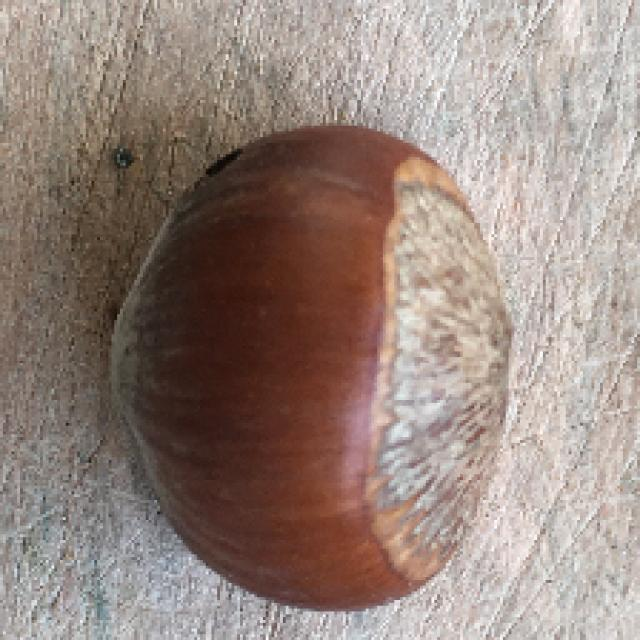qualityHazelnut: (105, 114, 523, 612)
